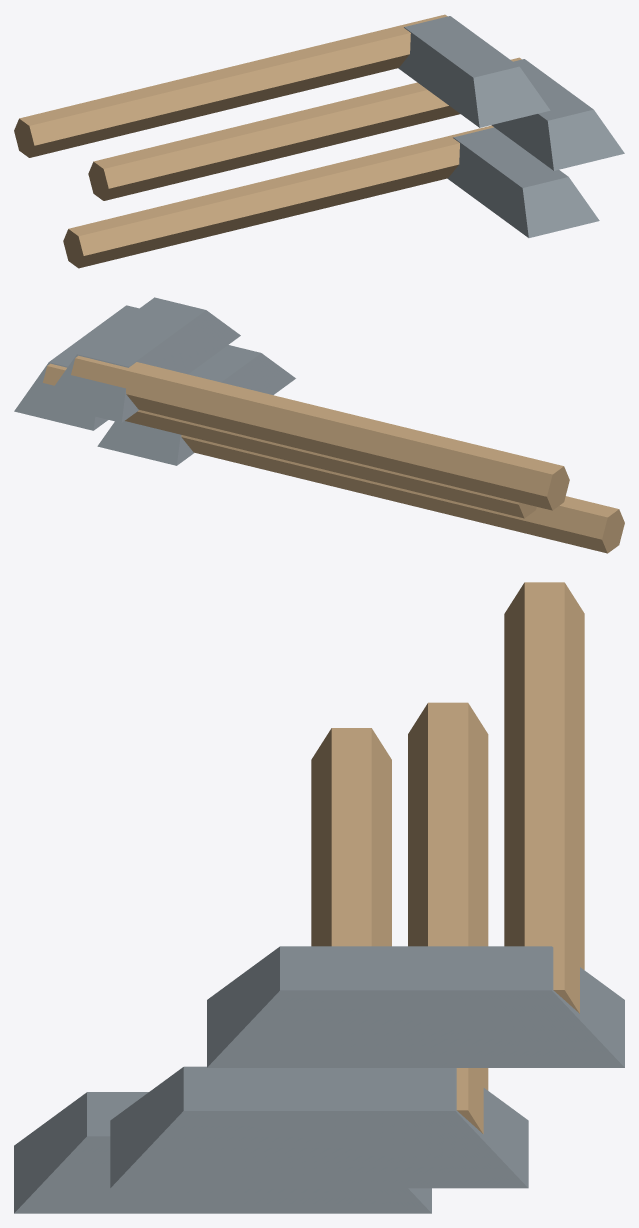
File: item_109_iron_adze_m.glb
3 views of the same model, one above another, from view 1: azimuth 30°, elevation 25°; view 2: azimuth 150°, elevation 25°; view 3: azimuth 270°, elevation 25° (orthographic). The views are drawn at different scales.
Visible parts, largest first — view 1: item_109_iron_adze_m; view 2: item_109_iron_adze_m; view 3: item_109_iron_adze_m.
Part boxes in pixels (x1=…): item_109_iron_adze_m: x1=14, y1=14, x2=624, y2=268; item_109_iron_adze_m: x1=14, y1=297, x2=624, y2=553; item_109_iron_adze_m: x1=14, y1=582, x2=624, y2=1213.
Bounding box in the file's own units: 0.69 × 0.145 × 0.38.
